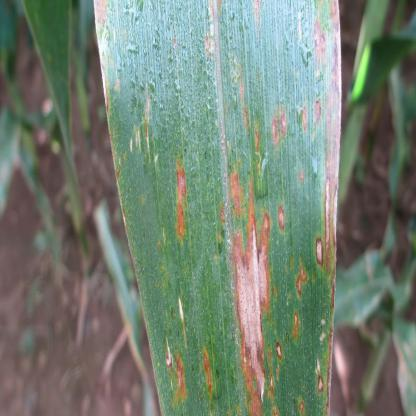Corn Gray leaf spot: (87, 2, 346, 416)
